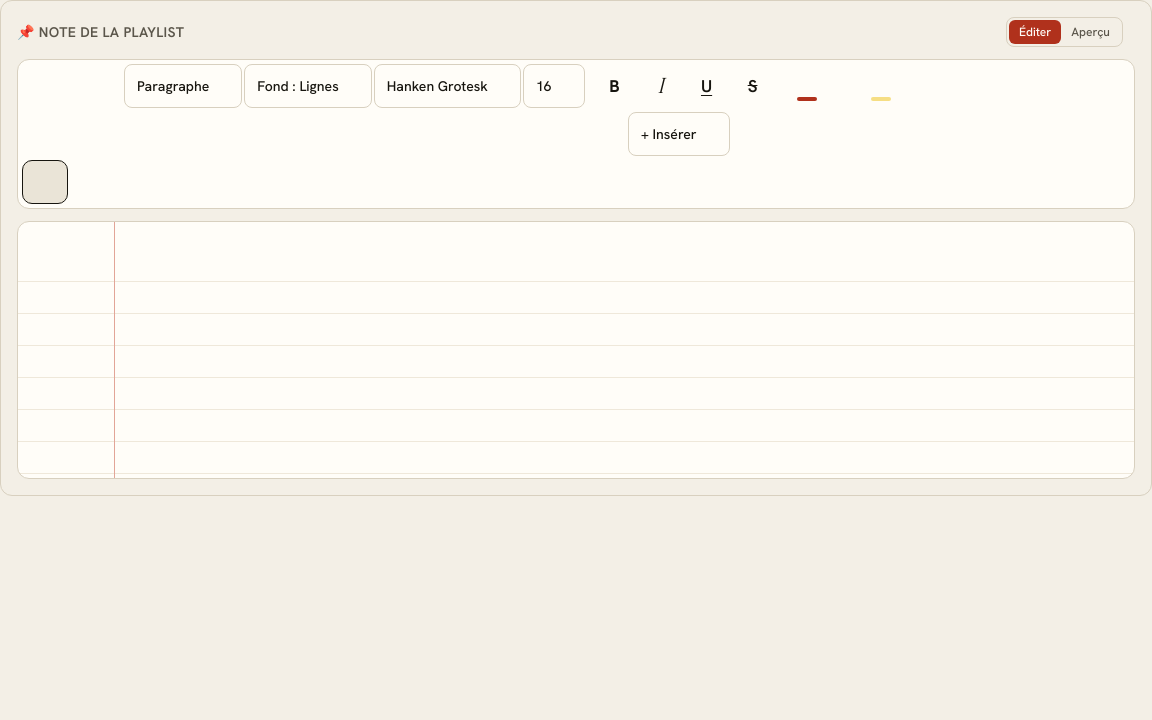
Test: timestamped markers (YC-56) › a playlist note, without a player, offers no marker
Expected: the button "Horodatages" is not shown
Click the button "Fond : Lignes".
click(308, 86)  # box [244,64,372,108]
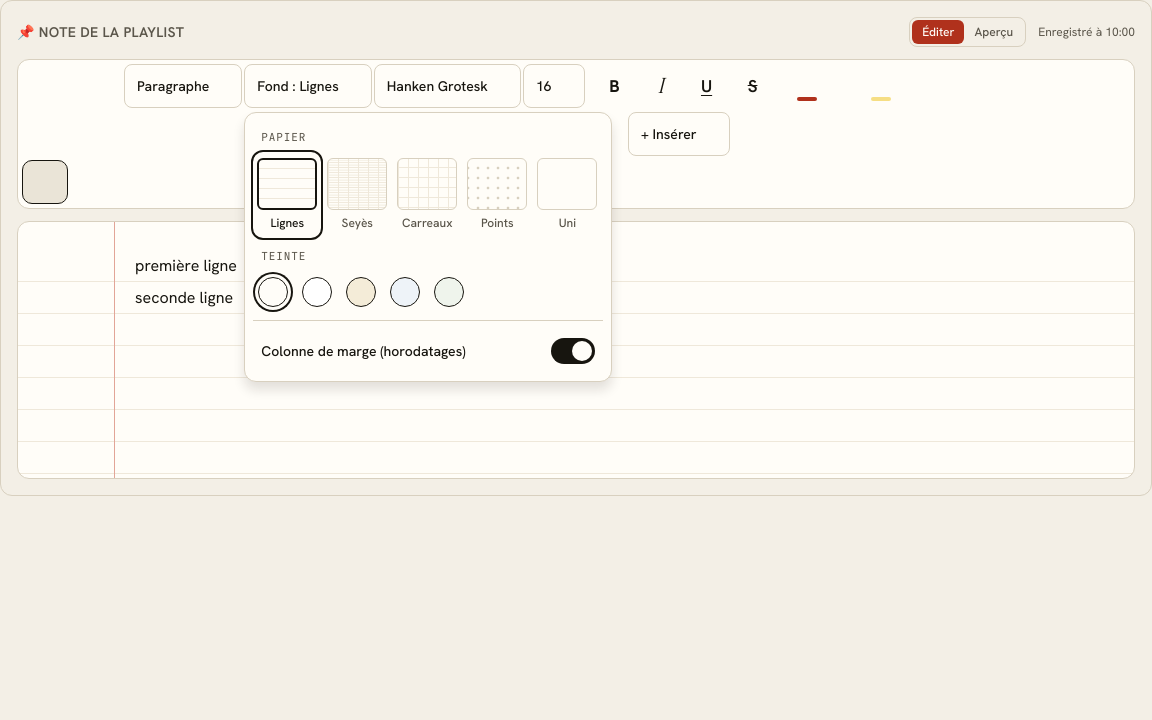
Now the menu item "Colonne de marge (horodatages)" is shown, box [253,329,603,373]
